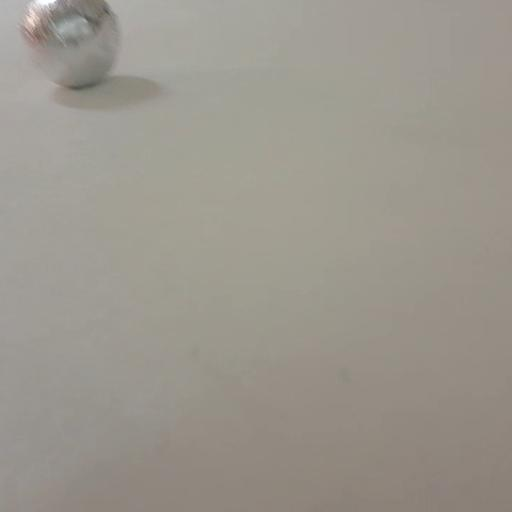alive: (17, 0, 122, 89)
